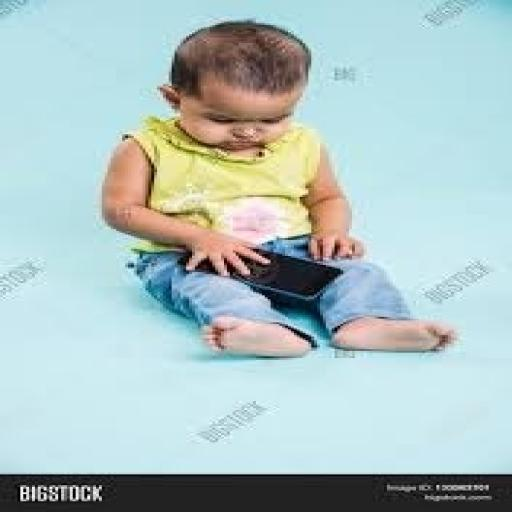texting: (96, 18, 460, 358)
